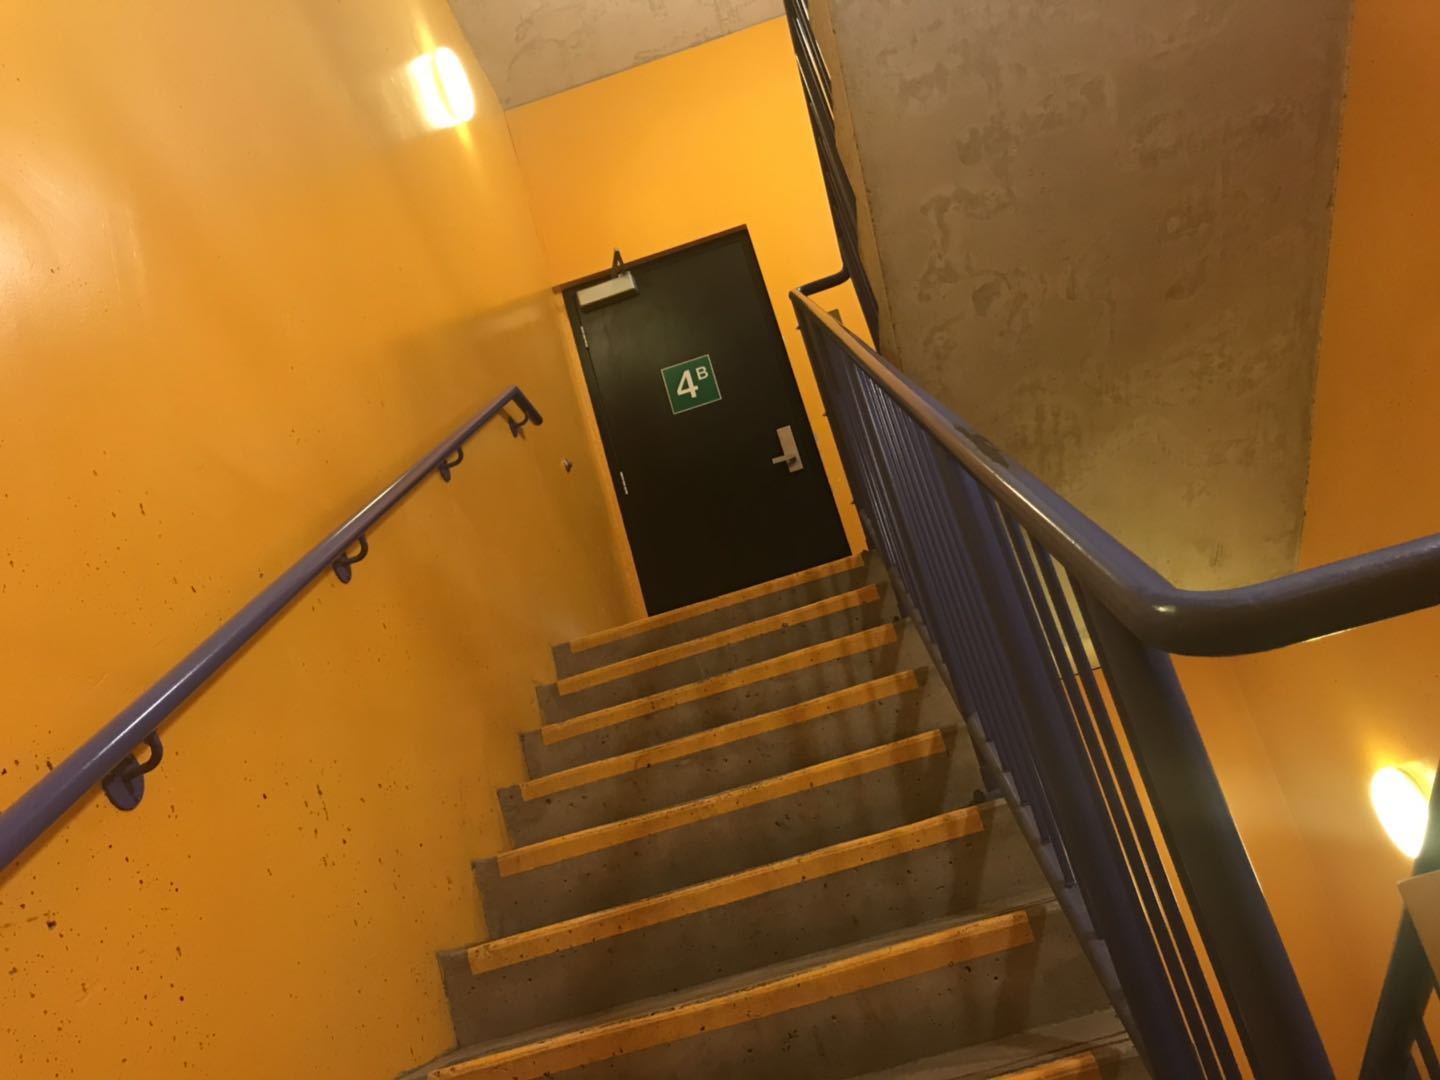door: (558, 222, 852, 616)
sign: (661, 354, 719, 411)
stair: (407, 548, 1128, 1077)
